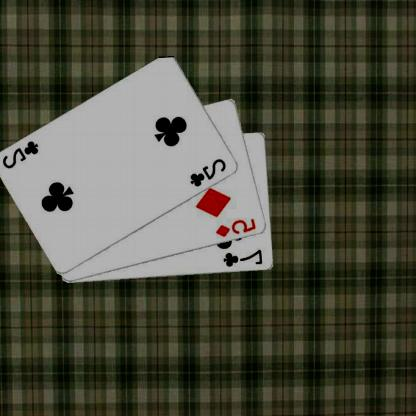2C: (190, 155, 229, 188), (2, 139, 42, 170)
5D: (216, 216, 260, 238)
7C: (223, 247, 266, 268)
